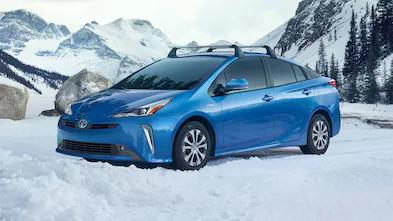Toyota Prius: (56, 53, 341, 170)
